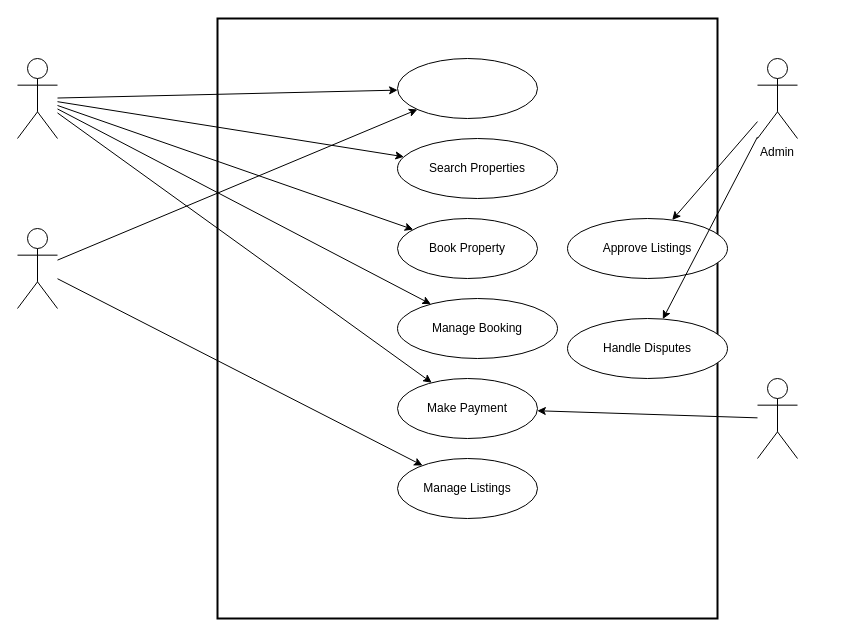
Image size: 844x636. Some labels were removed from this diagram. The shapes that lost their labels are listed below. From the top down, each one's centre as x and y in pixels, then its label:
At point (37, 98): "Guest".
At point (467, 88): "Register / Login".
At point (37, 268): "Host".
At point (777, 418): "Payment Gateway".
